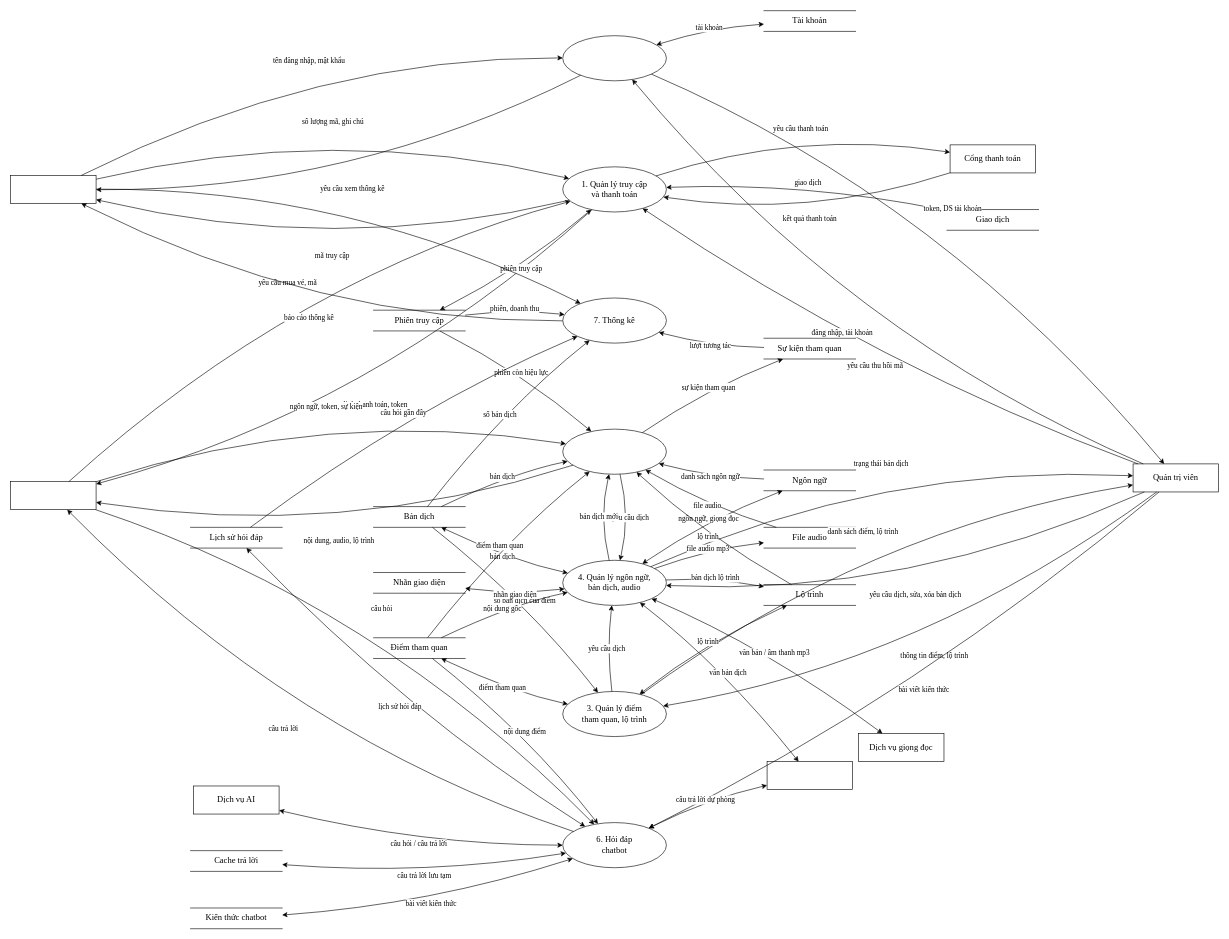
Image size: 1229x939. Some labels were removed from this diagram. Each missing label, with the centre of its shape:
"2. Xác thực và quản lý tài khoản" goes at point (614, 58).
"5. Cung cấp nội dung thuyết minh" goes at point (614, 451).
"Du khách" goes at point (53, 495).
"Dịch vụ dịch máy" goes at point (809, 775).
"Nhân viên" goes at point (53, 189).
